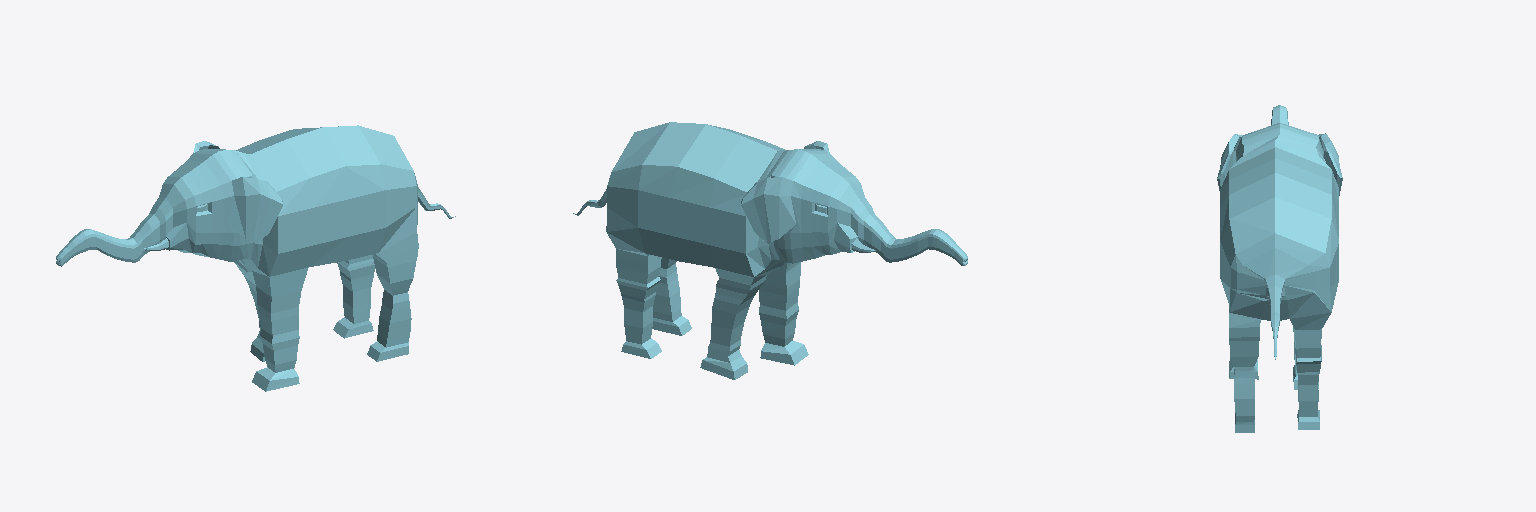
File: daxiang1.obj
3 renders of one model, left to right at view 1: azimuth 30°, elevation 25°; view 2: azimuth 150°, elevation 25°; view 3: azimuth 270°, elevation 25°, orthographic.
Parts seen in each view (by area): view 1: Box005; view 2: Box005; view 3: Box005.
Boxes of the visible parts, x1=… form: Box005: x1=56, y1=125, x2=455, y2=391; Box005: x1=573, y1=122, x2=967, y2=379; Box005: x1=1217, y1=105, x2=1342, y2=432.
Bounding box in the file's own units: 106 × 58.18 × 28.95.